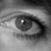eye: (16, 17, 32, 30)
